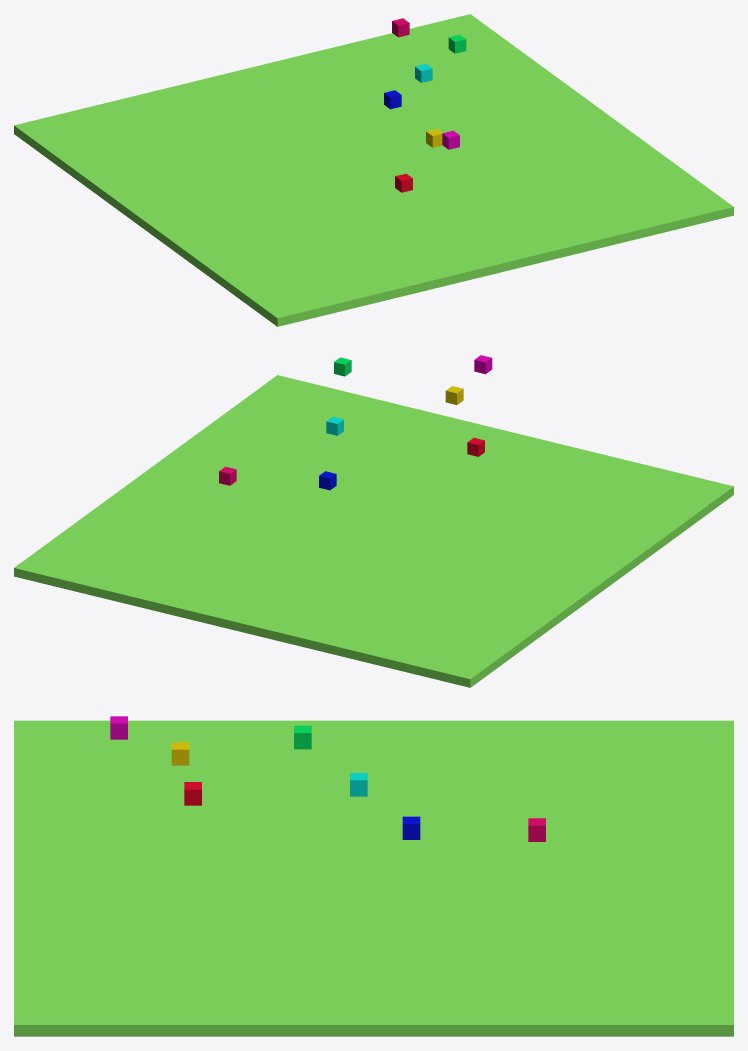
File: game.glb
3 views of the same model, one above another, from view 1: azimuth 30°, elevation 25°; view 2: azimuth 150°, elevation 25°; view 3: azimuth 270°, elevation 25° (orthographic). The views are drawn at different scales.
Parts seen in each view (by area): view 1: Cube; view 2: Cube; view 3: Cube.
Part boxes in pixels (x1,y1,x2,y2): Cube: [14, 14, 733, 326]; Cube: [14, 375, 733, 687]; Cube: [14, 720, 733, 1036].
Bounding box in the file's own units: 81.27 × 24.09 × 81.27.
